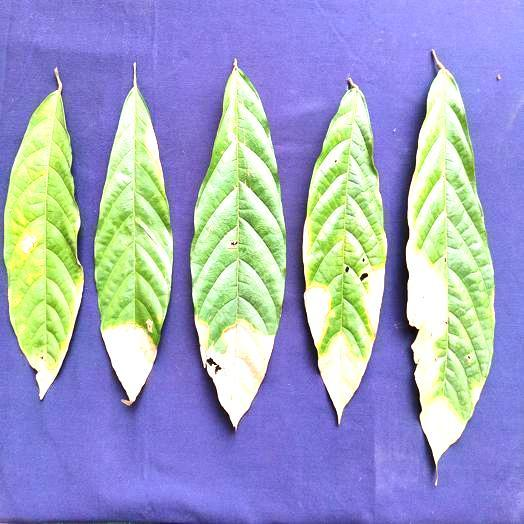Potassium: (407, 51, 494, 476), (190, 59, 285, 428), (303, 78, 386, 423), (95, 63, 172, 405), (4, 68, 83, 398)
